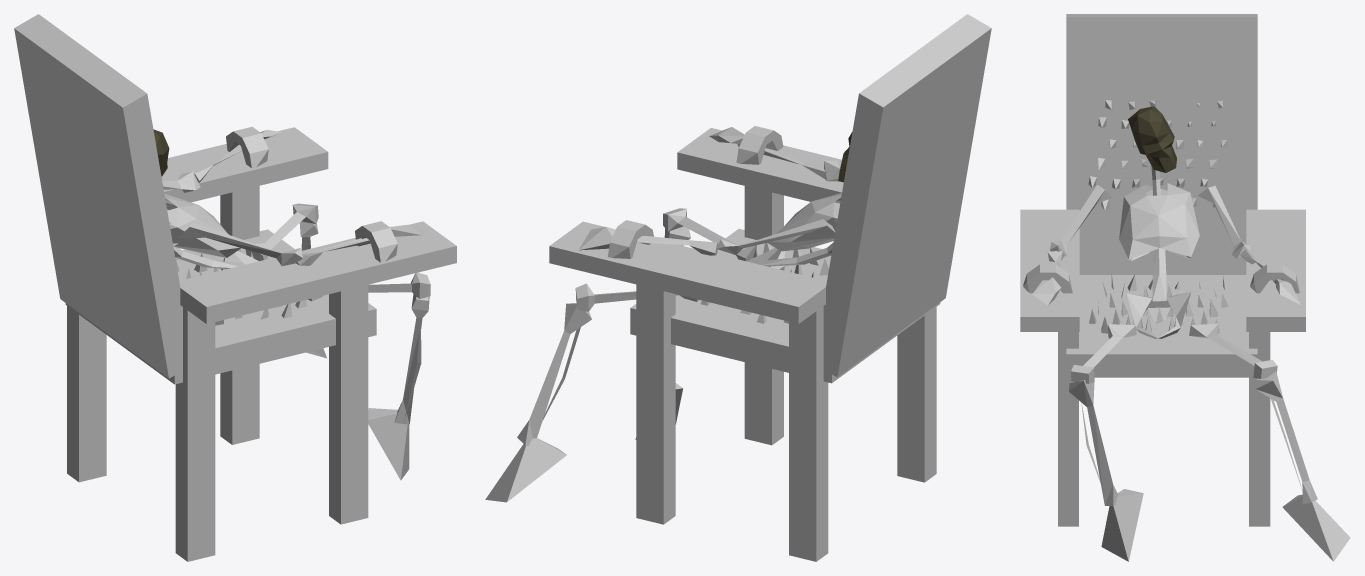
The model's file is NW_DRAGONISLE_TORTURE_04.OBJ.
3 views of the same model, side by side, from view 1: azimuth 30°, elevation 25°; view 2: azimuth 150°, elevation 25°; view 3: azimuth 270°, elevation 25° (orthographic). The views are drawn at different scales.
Visible parts, largest first — view 1: NW_DRAGONISLE_TORTURE_04; view 2: NW_DRAGONISLE_TORTURE_04; view 3: NW_DRAGONISLE_TORTURE_04.
Boxes of the visible parts, x1=… form: NW_DRAGONISLE_TORTURE_04: x1=14, y1=14, x2=456, y2=561; NW_DRAGONISLE_TORTURE_04: x1=485, y1=14, x2=991, y2=561; NW_DRAGONISLE_TORTURE_04: x1=1020, y1=14, x2=1350, y2=561.
Size of the model in its own units: 1.29 by 1.64 by 1.18.
